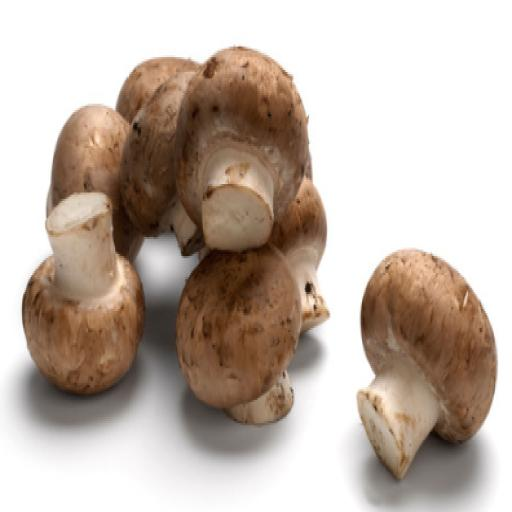Button Mushroom: (355, 230, 504, 495), (175, 26, 320, 252), (19, 180, 153, 404), (171, 251, 317, 438)
